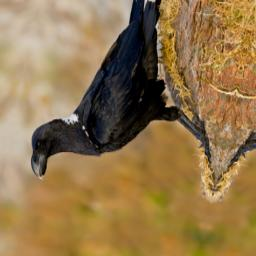Crow: (23, 0, 247, 216)
